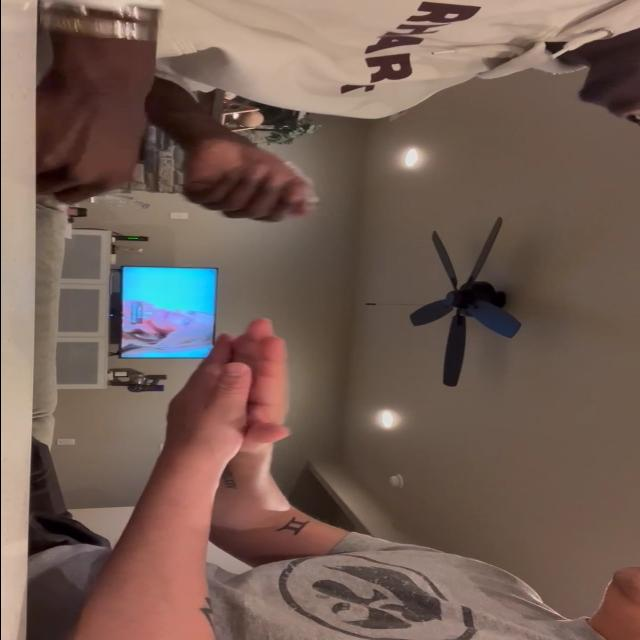Paper: (226, 320, 296, 454)
